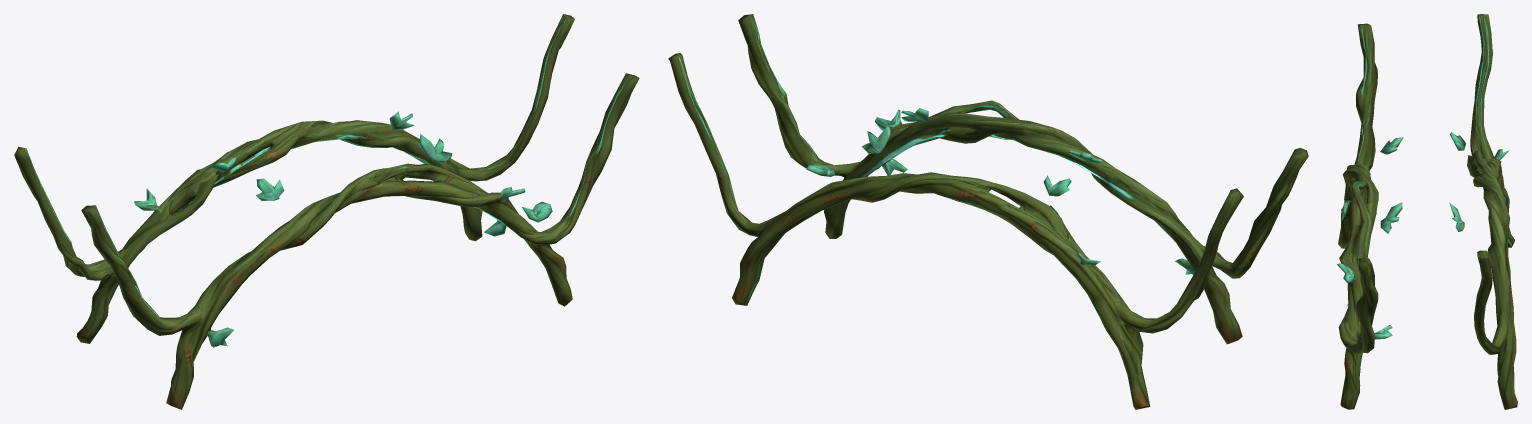
The picture shows the model from 3 angles, left to right: view 1: azimuth 30°, elevation 25°; view 2: azimuth 150°, elevation 25°; view 3: azimuth 270°, elevation 25°; orthographic projection. The views are drawn at different scales.
Parts seen in each view (by area): view 1: Mesh_0; view 2: Mesh_0; view 3: Mesh_0.
Boxes of the visible parts, box(x1,y1,x2,y2) form: Mesh_0: box(14, 14, 639, 409); Mesh_0: box(668, 14, 1308, 409); Mesh_0: box(1337, 14, 1517, 409).
Size of the model in its own units: 1.92 by 0.7296 by 0.599.
1 material, 1 textured.
